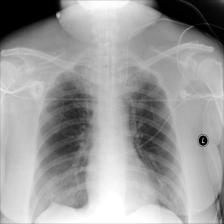normal: (26, 58, 191, 224)
